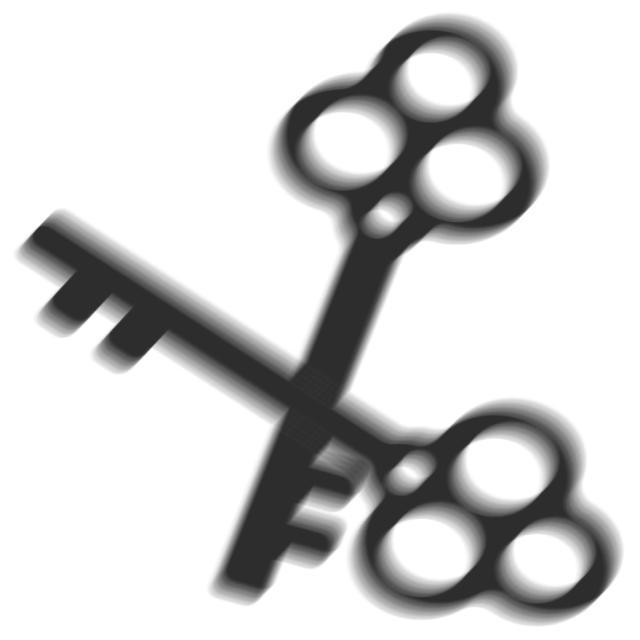key: (14, 206, 629, 633), (194, 6, 558, 617)
